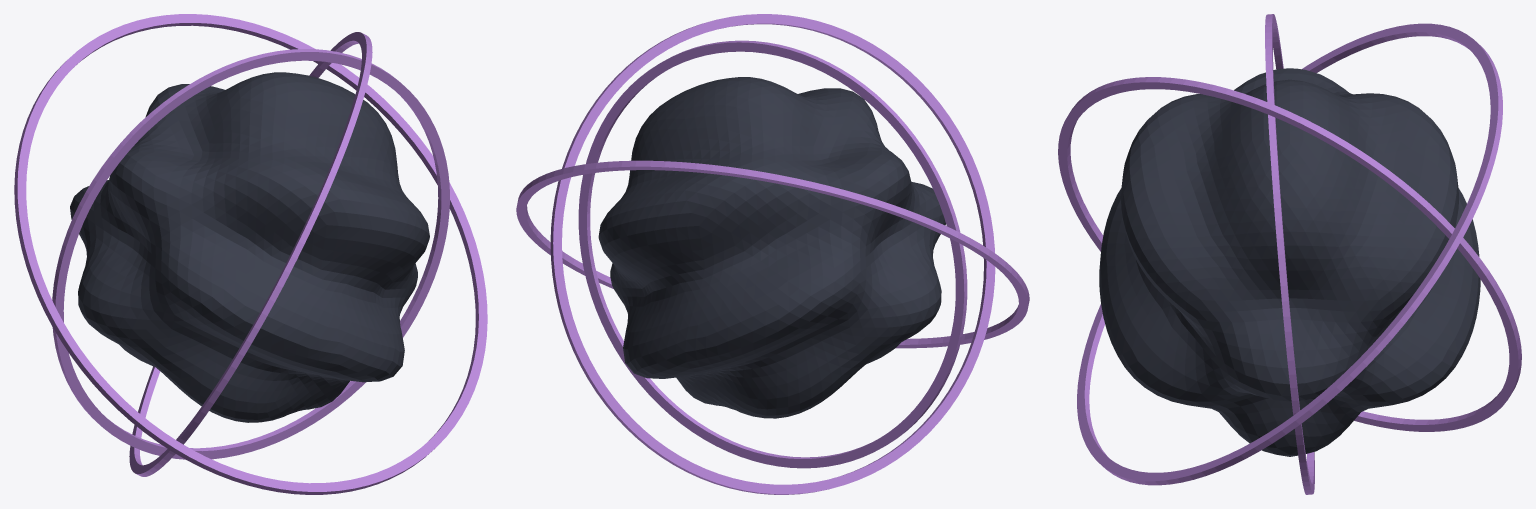
File: gpu-artifact.glb
The picture shows the model from 3 angles, left to right: view 1: azimuth 30°, elevation 25°; view 2: azimuth 150°, elevation 25°; view 3: azimuth 270°, elevation 25°; orthographic projection. The views are drawn at different scales.
Parts seen in each view (by area): view 1: audiocipher-stego-engine_obsidian_core, audiocipher-stego-engine_orbital_ring_2, audiocipher-stego-engine_orbital_ring_0, audiocipher-stego-engine_orbital_ring_1; view 2: audiocipher-stego-engine_obsidian_core, audiocipher-stego-engine_orbital_ring_1, audiocipher-stego-engine_orbital_ring_0, audiocipher-stego-engine_orbital_ring_2; view 3: audiocipher-stego-engine_obsidian_core, audiocipher-stego-engine_orbital_ring_2, audiocipher-stego-engine_orbital_ring_1, audiocipher-stego-engine_orbital_ring_0.
Boxes of the visible parts, x1,y1,x2,y2 form: audiocipher-stego-engine_obsidian_core: [70, 72, 429, 422]; audiocipher-stego-engine_orbital_ring_2: [14, 14, 487, 494]; audiocipher-stego-engine_orbital_ring_0: [52, 49, 449, 459]; audiocipher-stego-engine_orbital_ring_1: [129, 32, 372, 476]; audiocipher-stego-engine_obsidian_core: [598, 77, 945, 418]; audiocipher-stego-engine_orbital_ring_1: [550, 14, 995, 494]; audiocipher-stego-engine_orbital_ring_0: [578, 40, 967, 468]; audiocipher-stego-engine_orbital_ring_2: [516, 160, 1029, 348]; audiocipher-stego-engine_obsidian_core: [1099, 68, 1480, 456]; audiocipher-stego-engine_orbital_ring_2: [1077, 23, 1502, 485]; audiocipher-stego-engine_orbital_ring_1: [1058, 77, 1521, 431]; audiocipher-stego-engine_orbital_ring_0: [1265, 14, 1314, 494].
Size of the model in its own units: 3.2 by 2.75 by 2.66.
